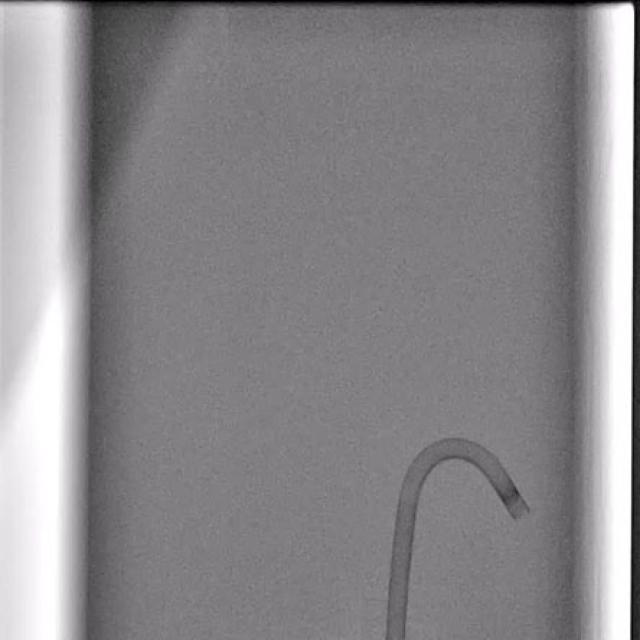bend: (399, 493, 418, 506)
entry: (386, 634, 404, 640)
marker: (500, 484, 520, 506)
tip: (514, 506, 532, 522)
